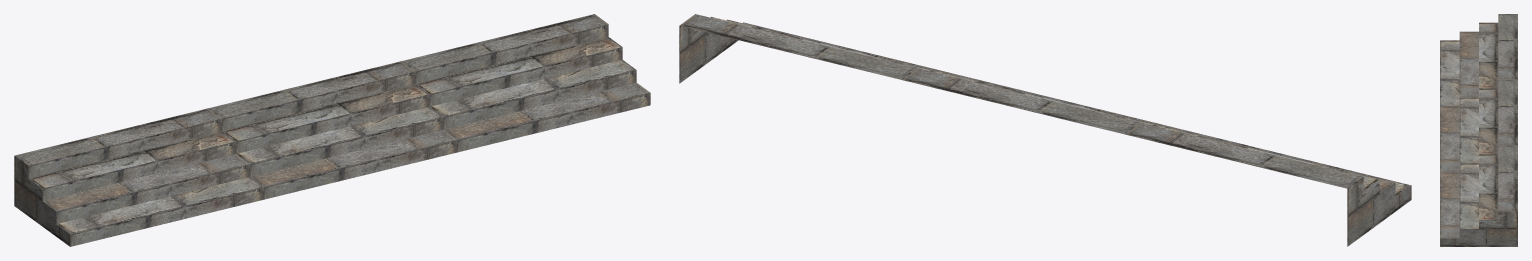
File: Stairs.obj
3 renders of one model, left to right at view 1: azimuth 30°, elevation 25°; view 2: azimuth 150°, elevation 25°; view 3: azimuth 270°, elevation 25°, orthographic. The views are drawn at different scales.
Parts seen in each view (by area): view 1: stairs; view 2: stairs; view 3: stairs.
Boxes of the visible parts, left/top/right/bottom form: stairs: left=14, top=14, right=650, bottom=246; stairs: left=679, top=14, right=1411, bottom=246; stairs: left=1440, top=14, right=1517, bottom=246.
Size of the model in its own units: 65.78 by 5.48 by 10.95.
1 material, 1 textured.
